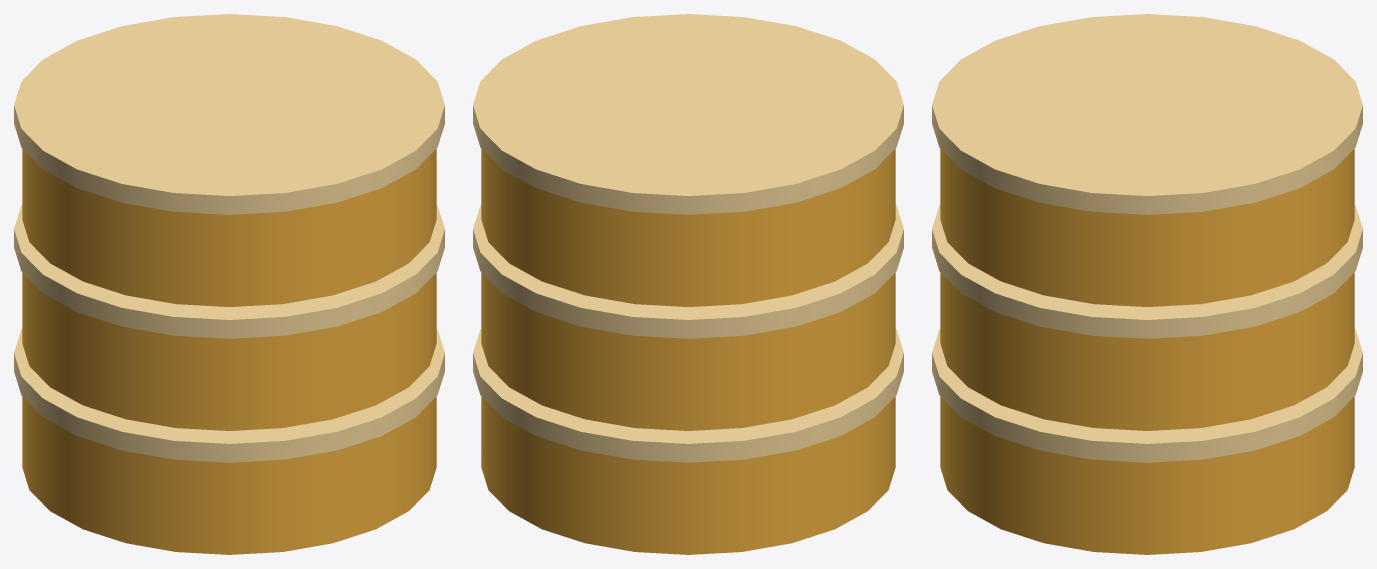
File: database.glb
3 renders of one model, left to right at view 1: azimuth 30°, elevation 25°; view 2: azimuth 150°, elevation 25°; view 3: azimuth 270°, elevation 25°, orthographic.
Parts seen in each view (by area): view 1: disc (×3), rim (×3); view 2: disc (×3), rim (×3); view 3: disc (×3), rim (×3).
Boxes of the visible parts, <box> form: disc (×3): <box>22,149,436,554</box>; rim (×3): <box>14,14,444,462</box>; disc (×3): <box>481,149,895,554</box>; rim (×3): <box>473,14,903,462</box>; disc (×3): <box>940,149,1354,554</box>; rim (×3): <box>932,14,1362,462</box>.
Bounding box in the file's own units: 1.04 × 0.965 × 1.04.
